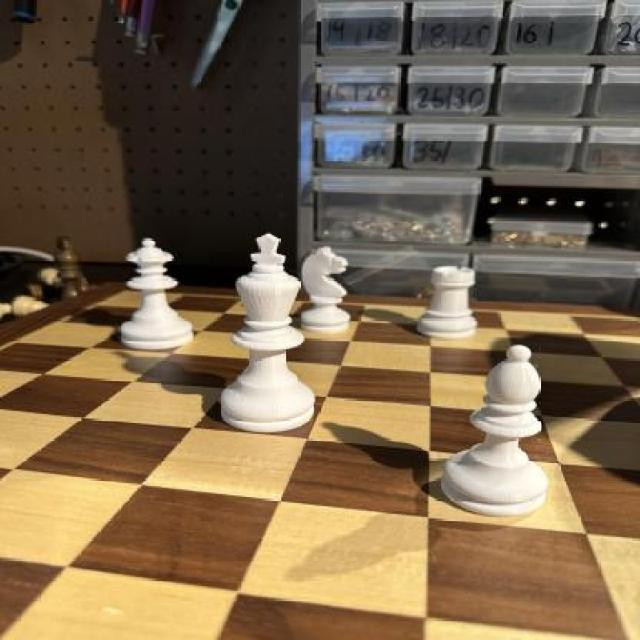black-rook: (440, 343, 559, 532)
white-bishop: (222, 226, 333, 439)
white-king: (306, 243, 353, 336)
white-pawn: (109, 242, 211, 358)
white-queen: (419, 263, 486, 344)
